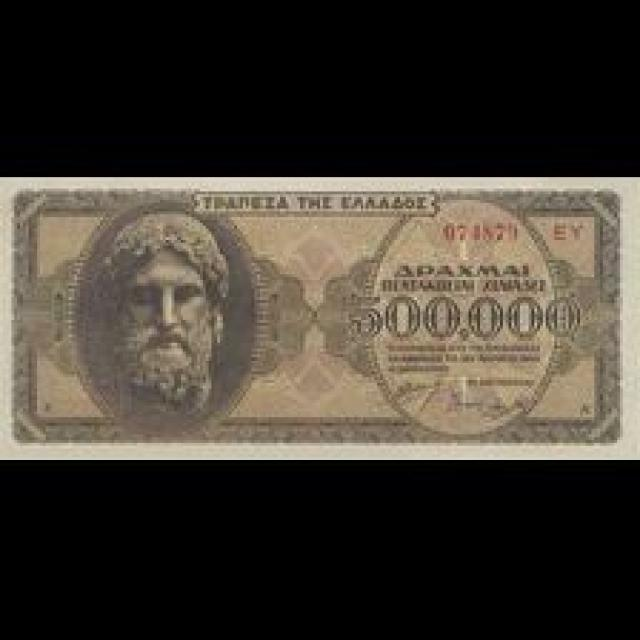banknote: (2, 177, 640, 460), (348, 287, 591, 346)
